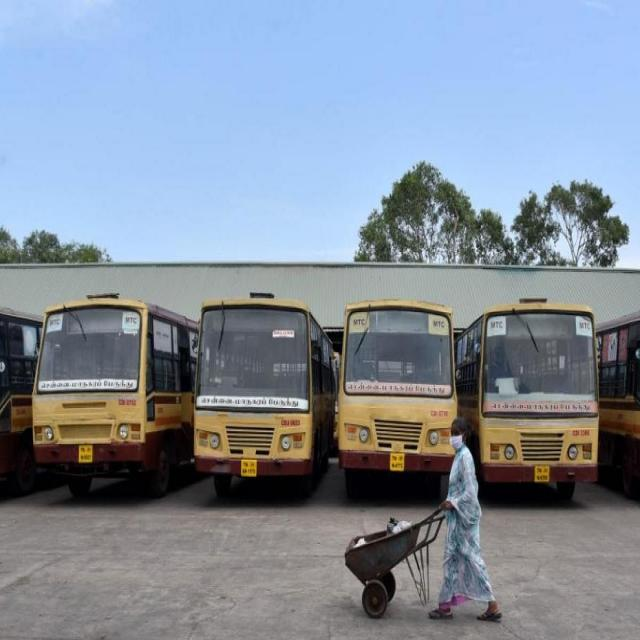BUS: (19, 274, 196, 499), (336, 291, 451, 496), (216, 284, 315, 501), (481, 300, 598, 482)
